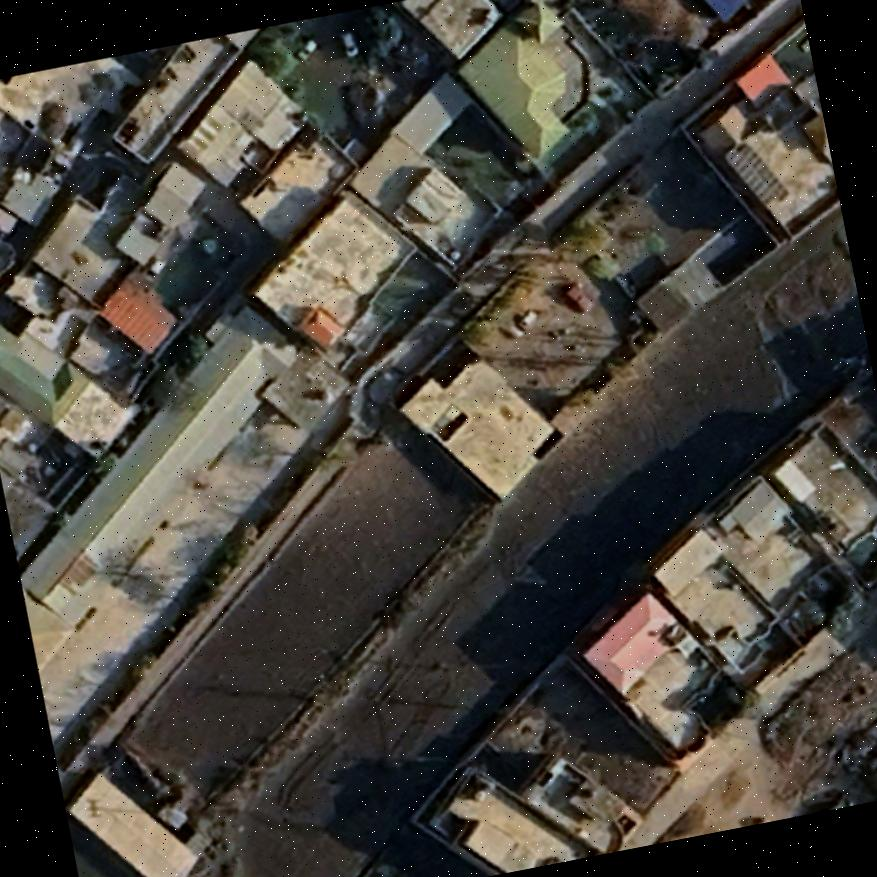Solarpanel: (722, 138, 792, 209)
